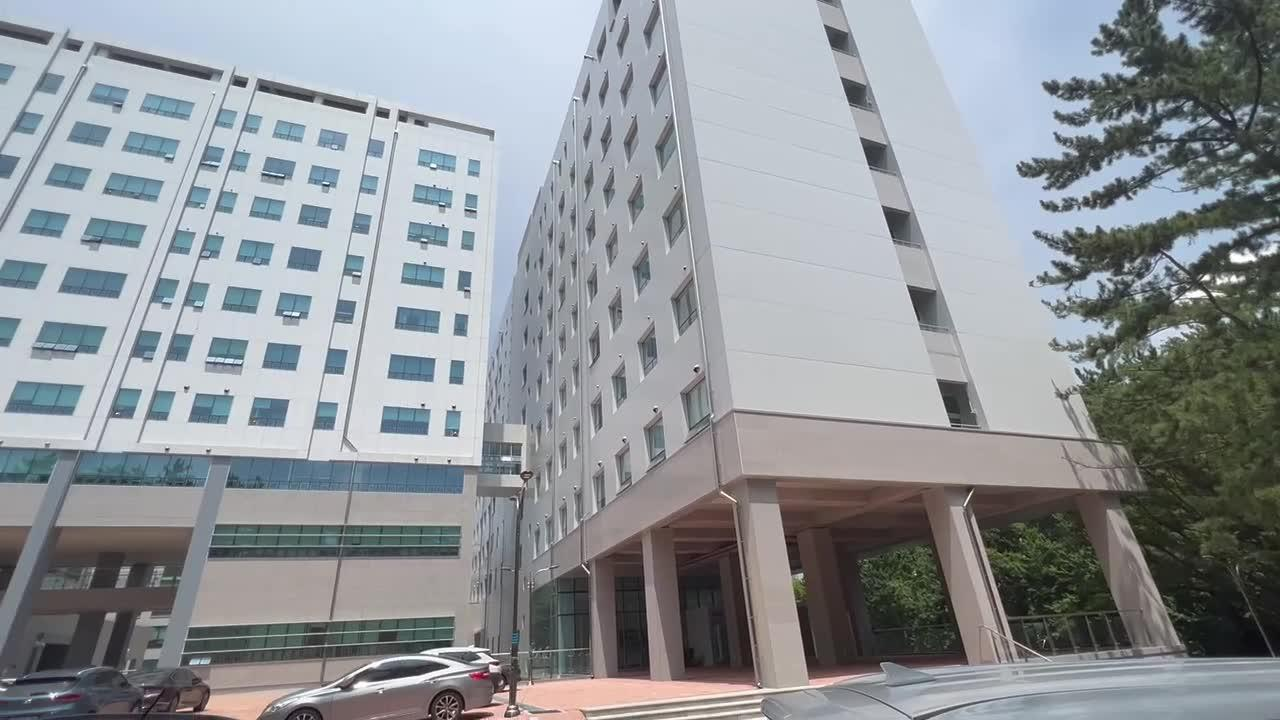building: (26, 0, 1070, 628)
